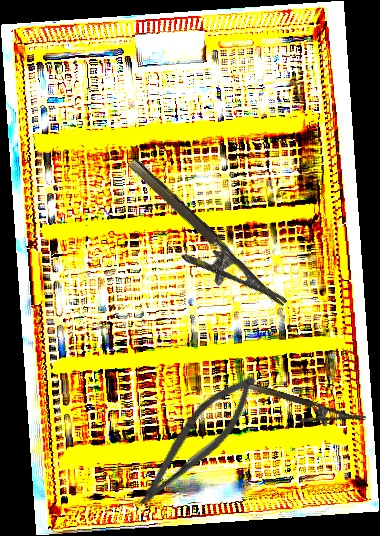Micro Scissor: (126, 360, 268, 524)
Needle Holder: (108, 156, 288, 332), (243, 381, 367, 440)
